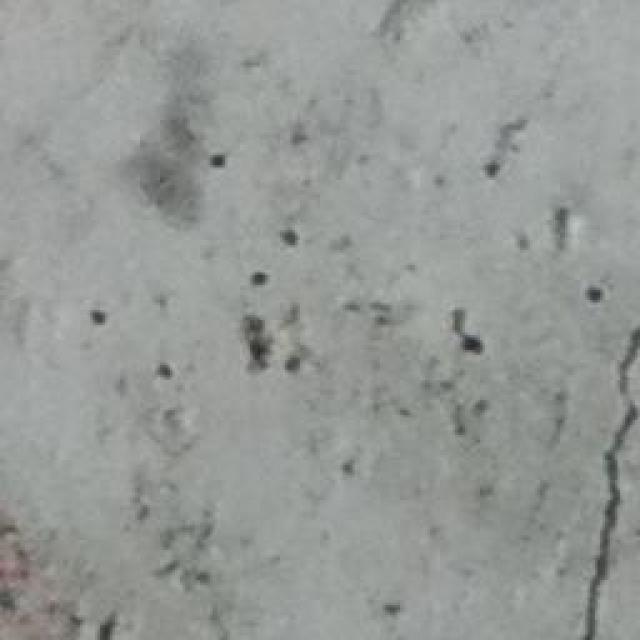Longitudinal: (596, 306, 640, 640)
